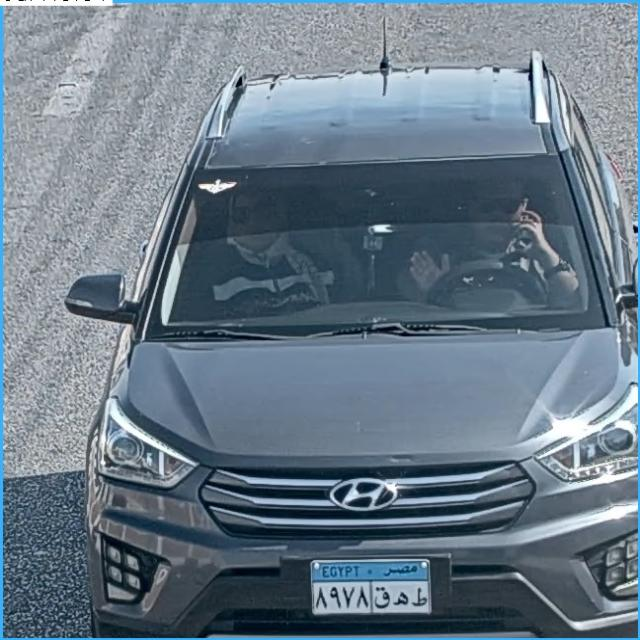windshield: (163, 164, 602, 336)
